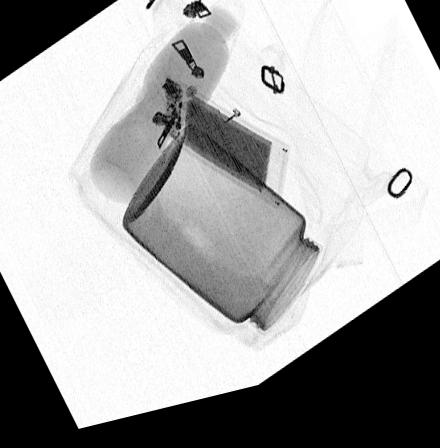Powerbank: (163, 83, 289, 223)
